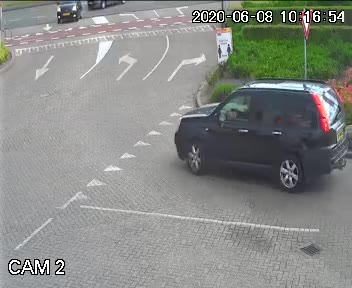car: (160, 61, 352, 205), (46, 0, 84, 32)
